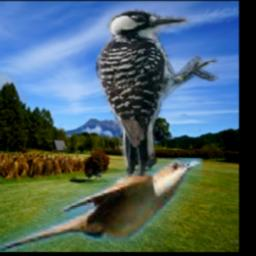Cuckoo: (0, 158, 202, 252)
Woodpecker: (92, 10, 220, 178)
